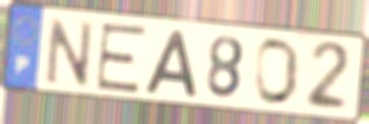2: (306, 38, 354, 113)
8: (204, 34, 246, 101)
A: (142, 28, 199, 98)
E: (93, 21, 150, 95)
N: (44, 15, 96, 89)
O: (253, 35, 302, 108)
